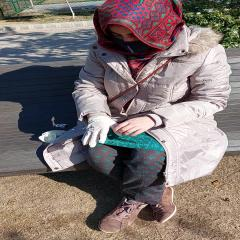gloved: (82, 114, 108, 149)
not-gloved: (112, 117, 154, 137)
